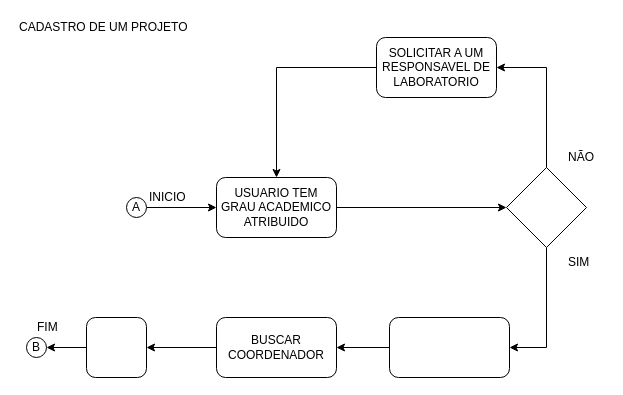
The diagram is 623 pixels wide and 395 high, and some of its shapes have lost their labels. Each missing label, with the centre of its shape:
"INFORMAÇÕES BASICAS DO PROJETO" goes at [449,347].
"SALVAR" goes at [116,347].
